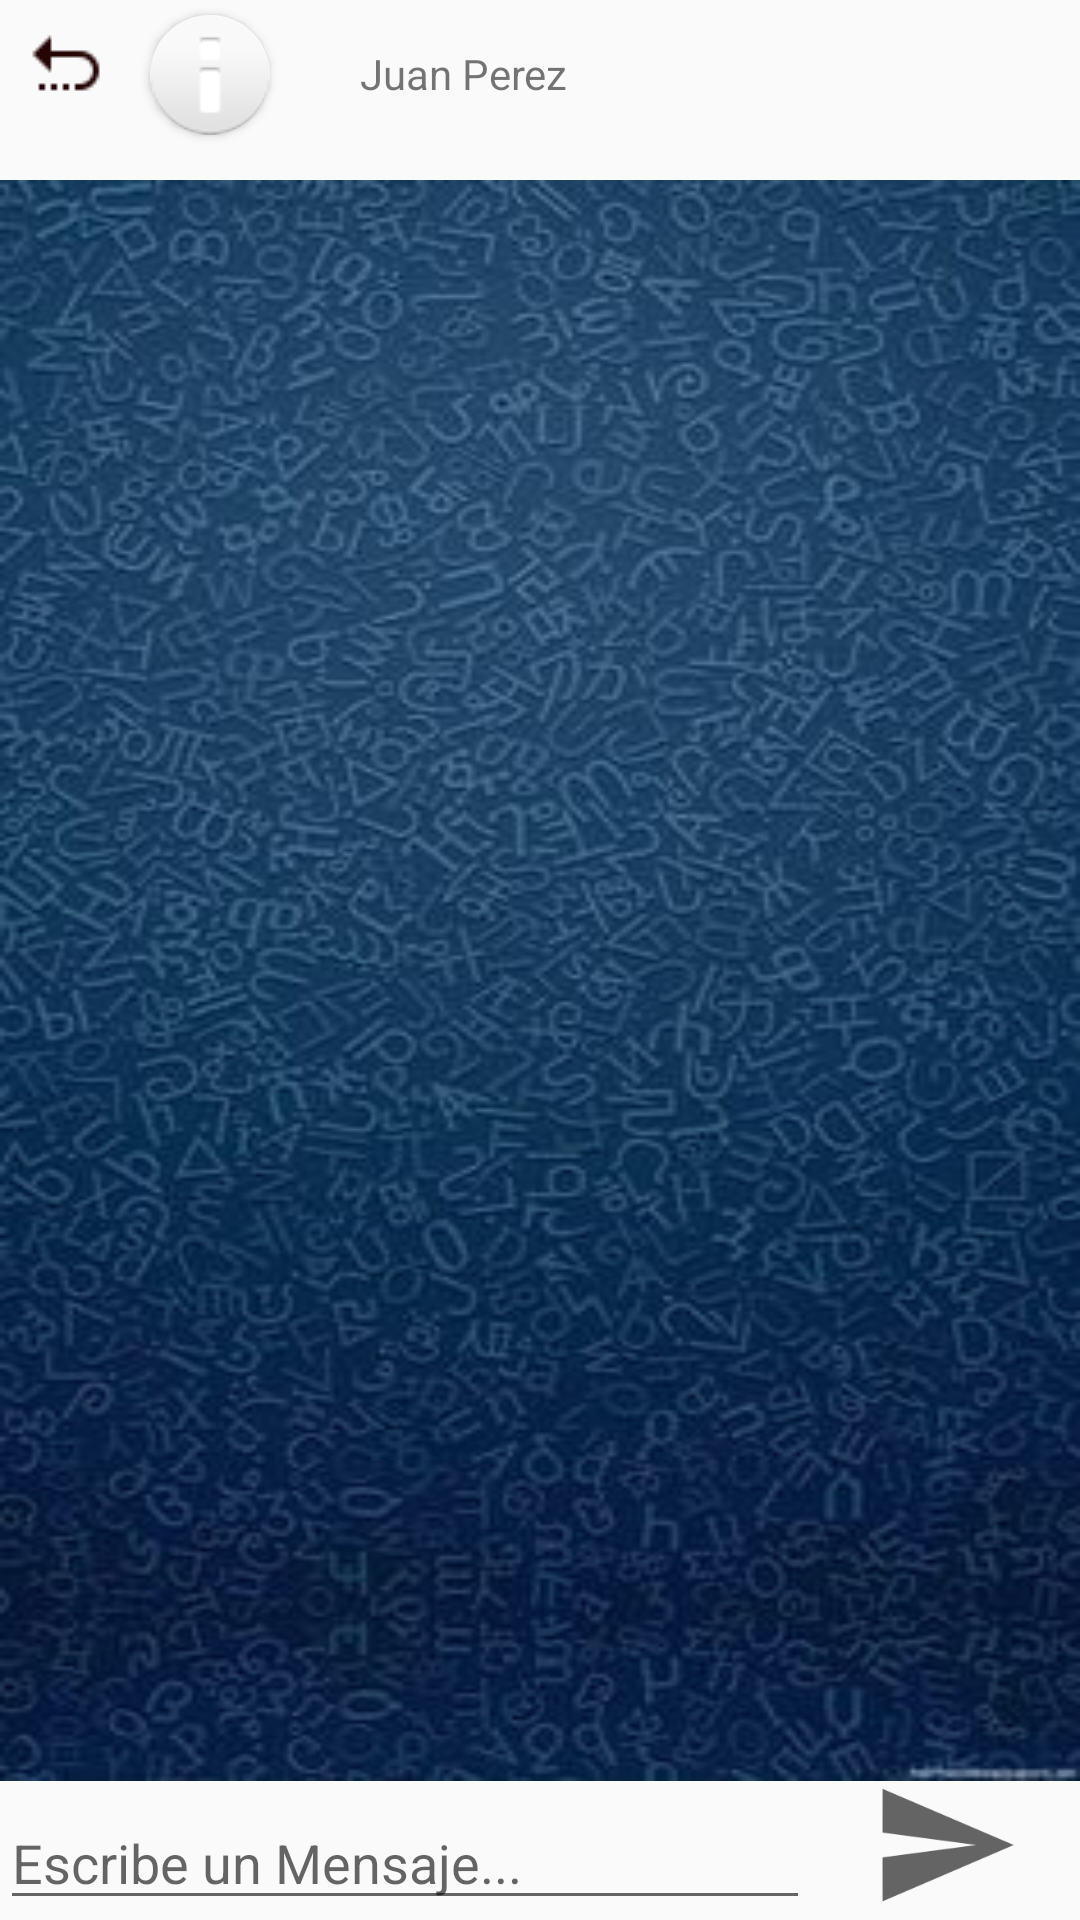

Screen size 1080x1920. Icon name, then its center in pixels as [x,y]:
info: [209,75]
return: [66,63]
send: [947,1845]
